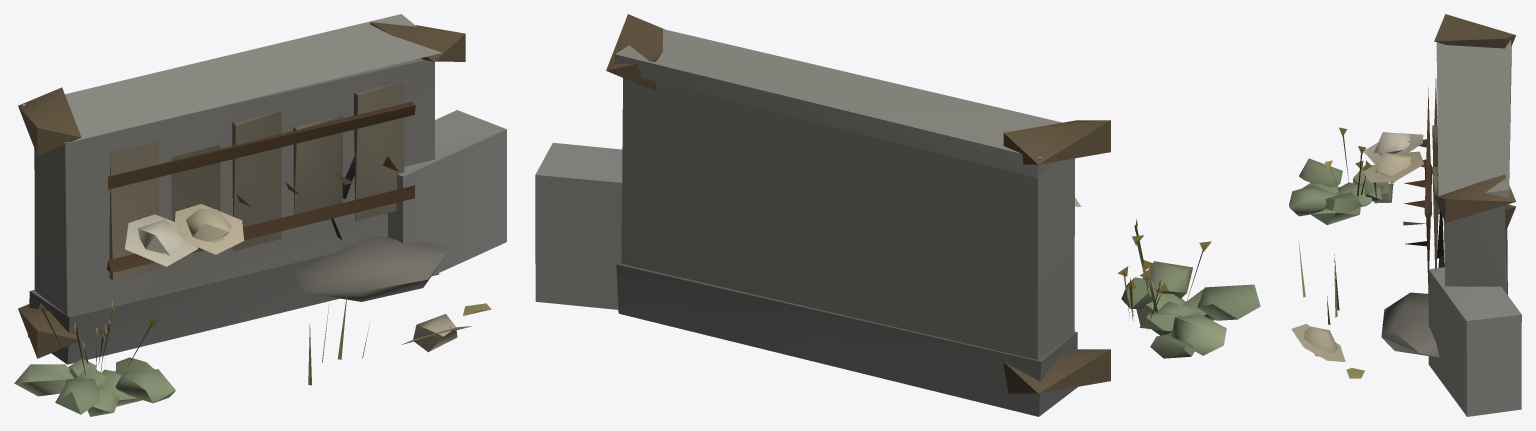
File: hardhat_rack_c_lod2.glb
3 renders of one model, left to right at view 1: azimuth 30°, elevation 25°; view 2: azimuth 150°, elevation 25°; view 3: azimuth 270°, elevation 25°, orthographic. The views are drawn at different scales.
Visible parts, largest first — view 1: Surface.001; view 2: Surface.001; view 3: Surface.001.
Part boxes in pixels (x1,y1,x2,y2): Surface.001: (14,14,506,416); Surface.001: (535,14,1260,416); Surface.001: (1289,14,1521,416).
Size of the model in its own units: 5.99 by 2.58 by 2.62.
